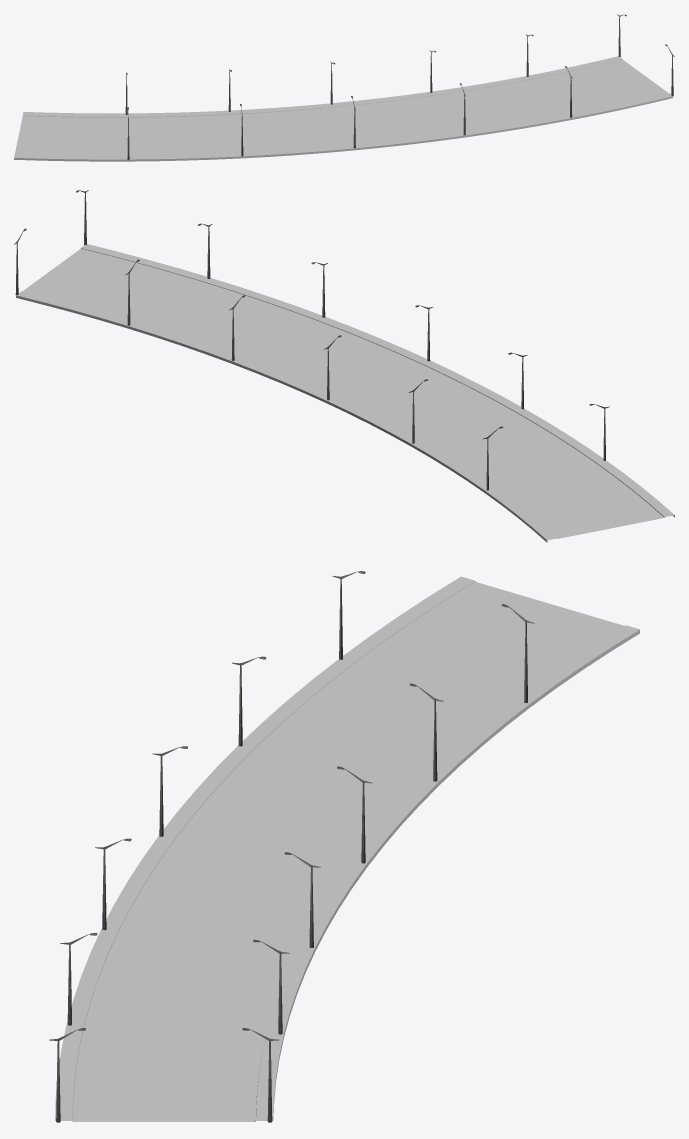
File: Big_Road_35.FBX
3 views of the same model, one above another, from view 1: azimuth 30°, elevation 25°; view 2: azimuth 150°, elevation 25°; view 3: azimuth 270°, elevation 25° (orthographic). The views are drawn at different scales.
Parts seen in each view (by area): view 1: Big_Road_35, city_light006; view 2: Big_Road_35, city_light006; view 3: Big_Road_35, city_light006.
Part boxes in pixels (x1,y1,x2,y2): Big_Road_35: (14,56,673,161); city_light006: (125,14,674,159); Big_Road_35: (16,244,674,542); city_light006: (14,190,609,490); Big_Road_35: (55,576,639,1121); city_light006: (49,571,534,1122).
Size of the model in its own units: 134 by 61.36 by 11.04.
